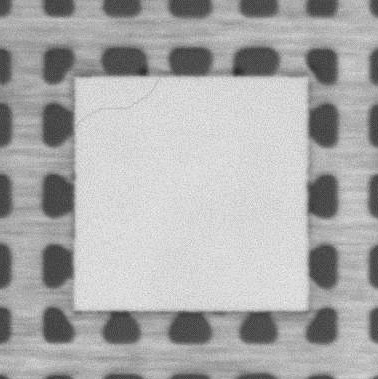DIE_CRACK: (76, 79, 159, 126)
